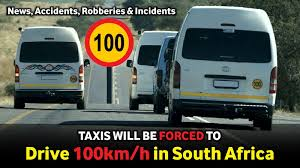Speed_limit_100km: (85, 18, 134, 66)
car: (167, 6, 277, 130), (12, 26, 89, 111)
